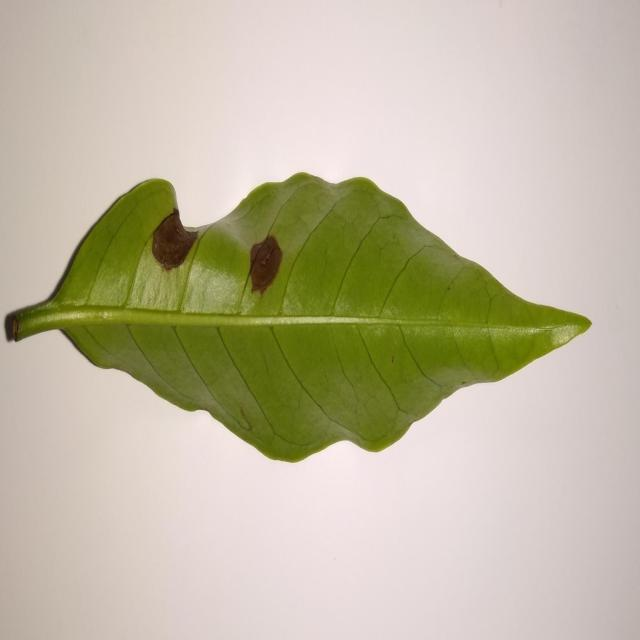Enfermedad-Antracnosis: (6, 173, 593, 466)
